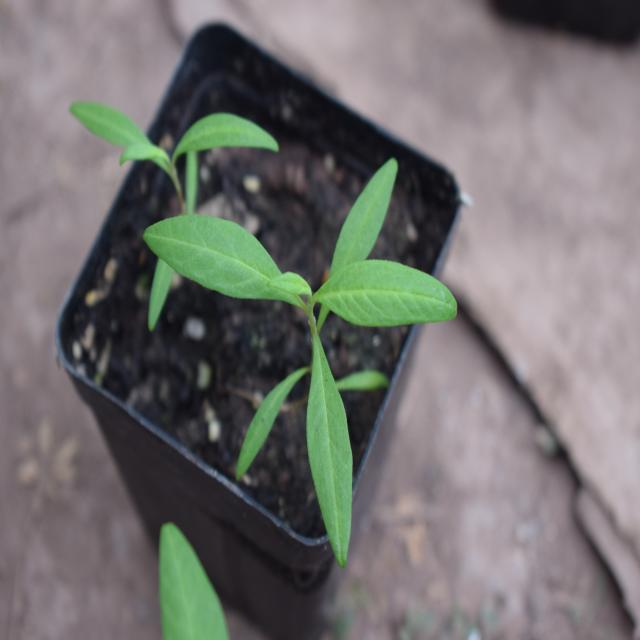white_smart_weed: (154, 185, 463, 568)
